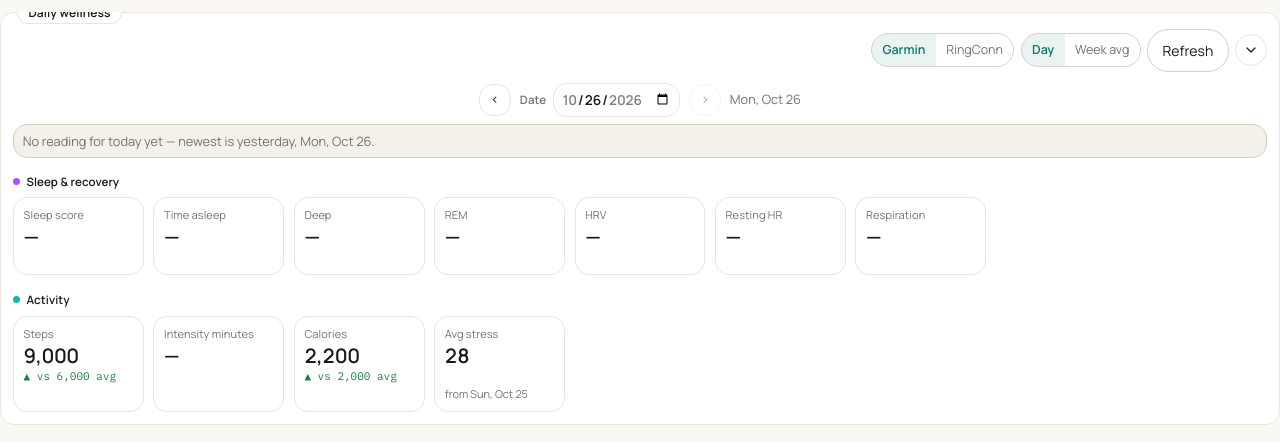
Test: GarminWellnessCard › steps back to a previous day and back to the latest
Expected: the text "9,000" is shown, [24,342,79,369]
Step 1. Click the button named "Previous day" → coordinates (495, 100), box [479,84,511,116]
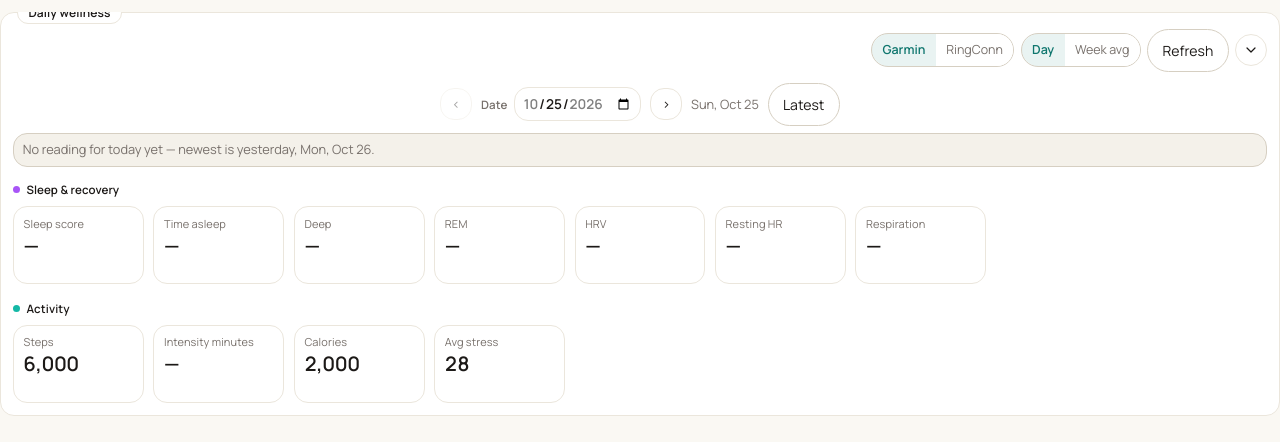
Expected: the button named "Previous day" is disabled, [440,88,472,120]
Result: the text "6,000" is shown at [24,350,79,377]
Step 2. Click the button "Latest" → coordinates (804, 104), box [768,83,840,126]
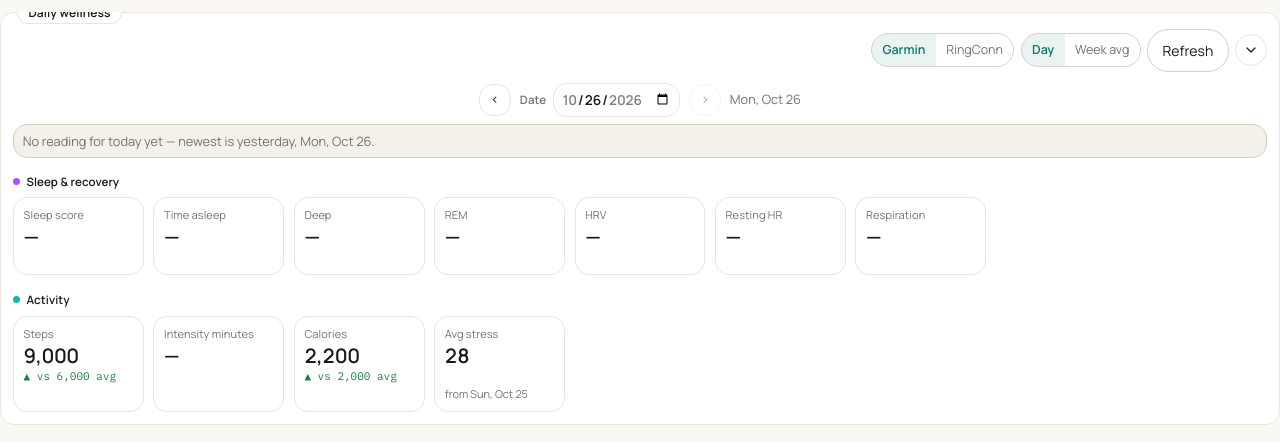
Result: the text "9,000" is shown at [24,342,79,369]
